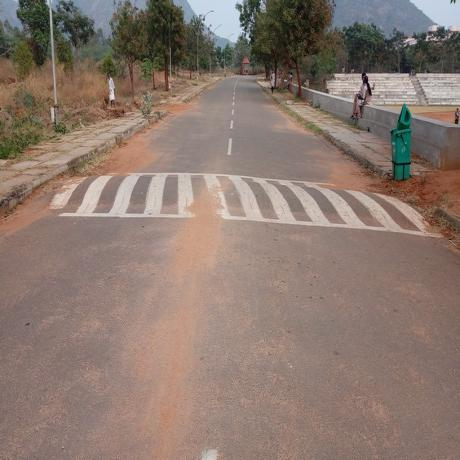Speed Bump: (47, 170, 434, 239)
